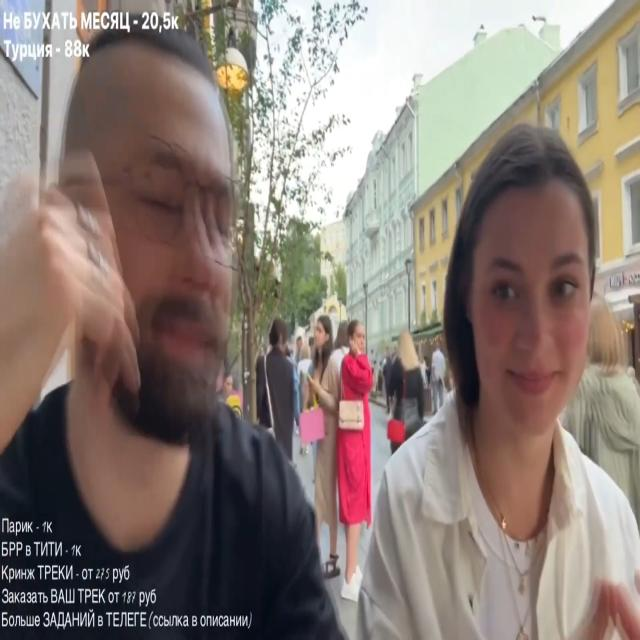Person: (0, 27, 355, 640), (369, 129, 640, 639), (301, 313, 375, 604), (559, 304, 640, 546), (333, 320, 376, 562), (258, 318, 304, 463), (297, 349, 335, 485), (388, 333, 428, 450), (338, 325, 376, 433), (383, 344, 405, 421)
